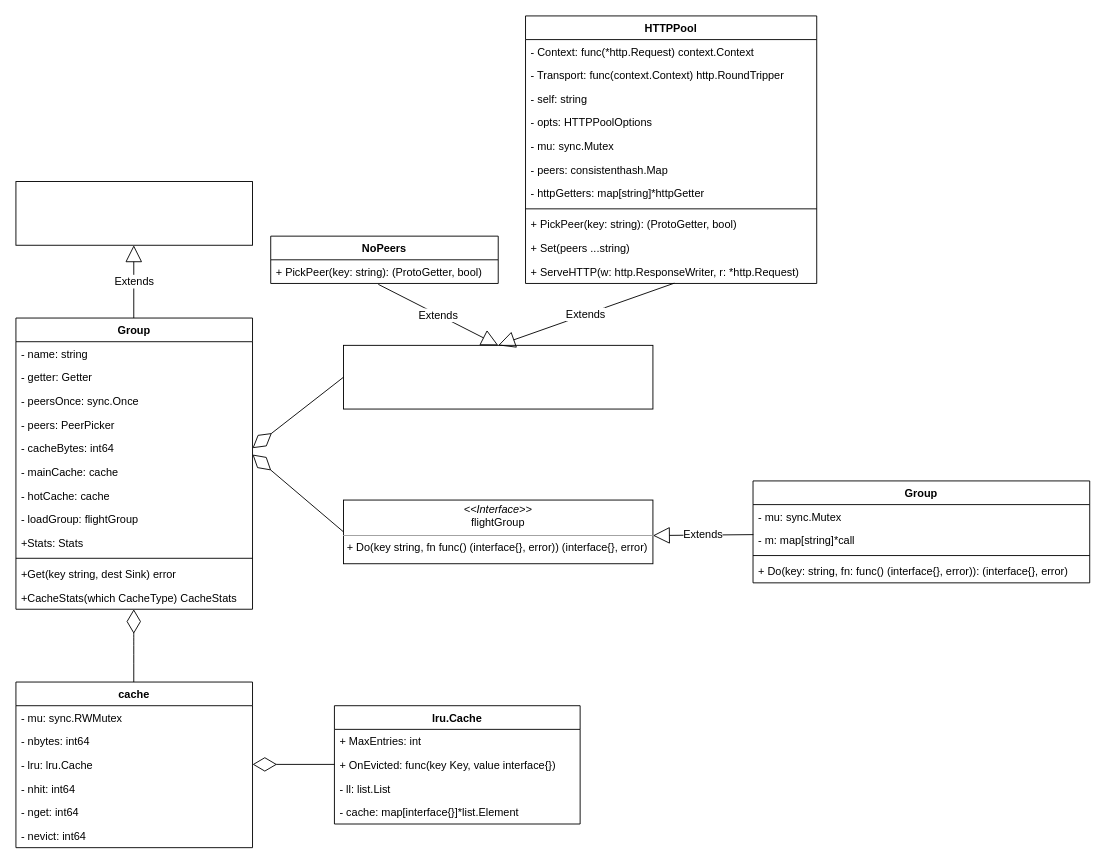
The diagram is 1106 pixels wide and 866 high, and some of its shapes have lost their labels. Each missing label, with the centre of its shape:
"<<Interface>> Getter + Get(key string, dest Sink): error" belongs at [134,213].
"<<Interface>> PeerPicker + PickPeer(key string) (peer ProtoGetter, ok bool)" belongs at [498,376].
